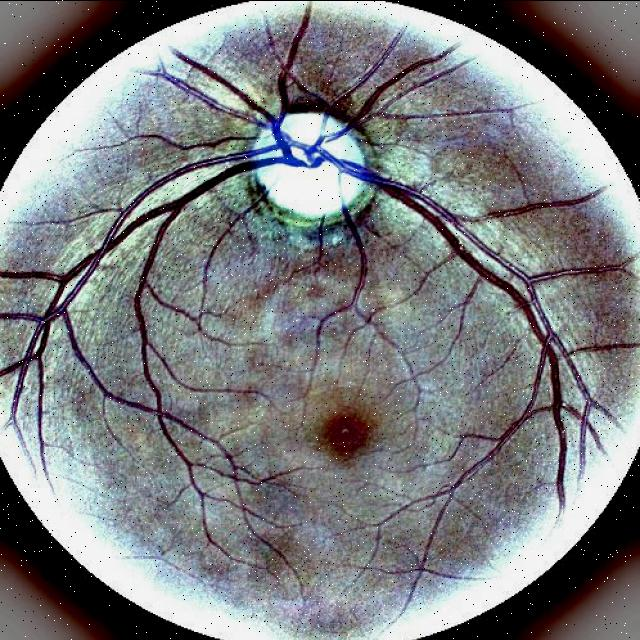Macula: (281, 368, 397, 494)
Nerves: (313, 142, 603, 404), (26, 123, 346, 357)
Optic Disk: (229, 79, 394, 235)
